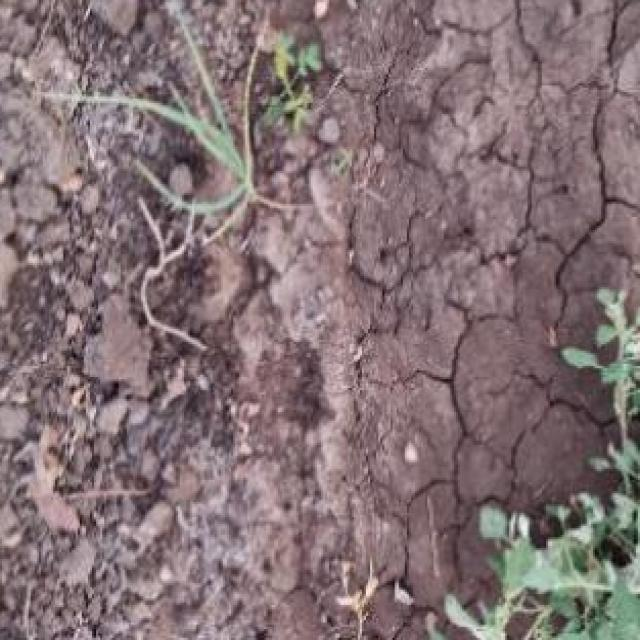weed: (388, 287, 640, 640)
